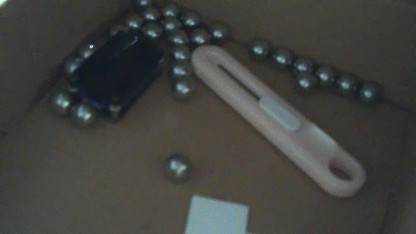ironball: (313, 56, 338, 84), (162, 153, 189, 178), (74, 102, 96, 125), (77, 38, 100, 59), (247, 35, 268, 58), (272, 42, 290, 68), (48, 89, 70, 110), (62, 57, 85, 77), (337, 68, 355, 92), (293, 51, 311, 73), (210, 17, 226, 40), (182, 8, 201, 26), (361, 85, 375, 107), (142, 22, 160, 39), (169, 45, 190, 59), (110, 20, 127, 37), (175, 79, 193, 95), (124, 12, 142, 28), (169, 31, 187, 45), (172, 62, 191, 74), (296, 74, 313, 87), (192, 29, 207, 42), (161, 17, 177, 28), (144, 5, 157, 17), (162, 6, 176, 15)
